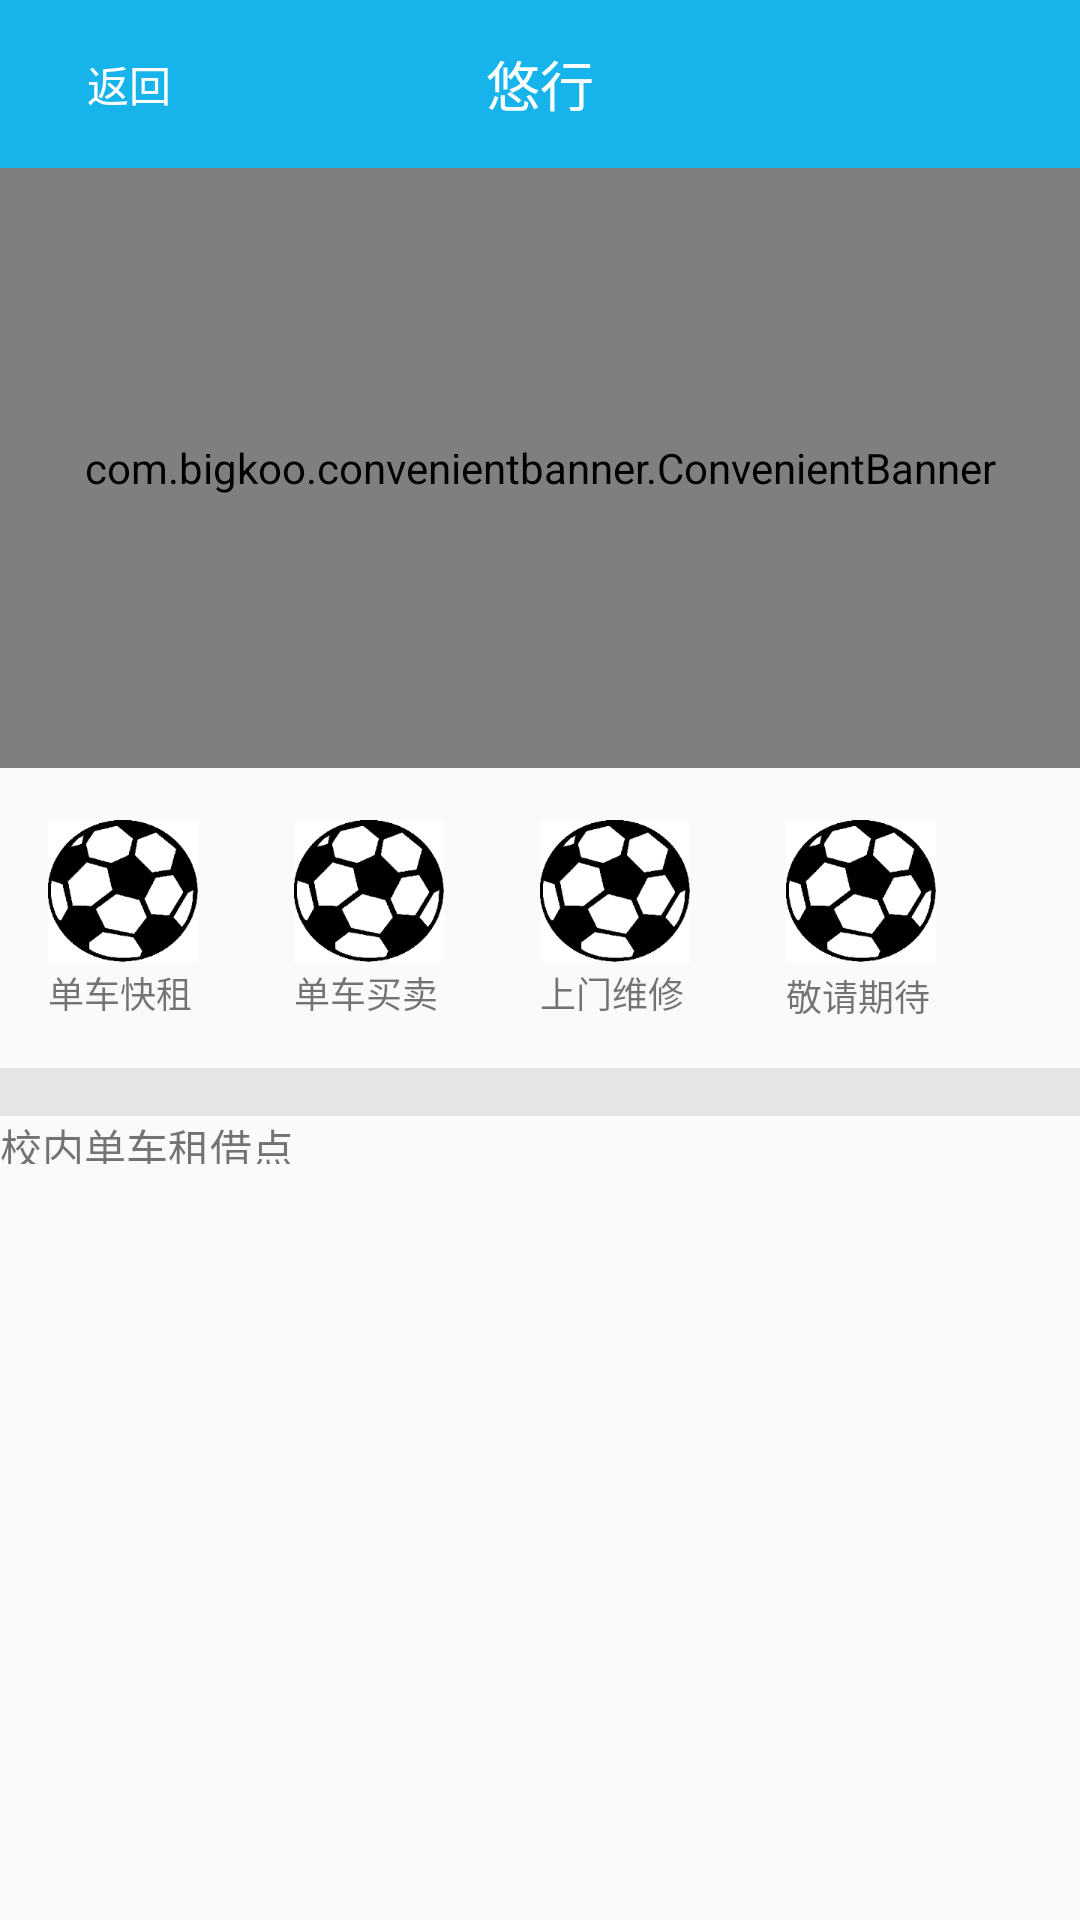

Screen size 1080*1920. Icon name, then its center in pixels as [x,y]:
soccer: [123,891], [369,891], [615,891], [861,891]
